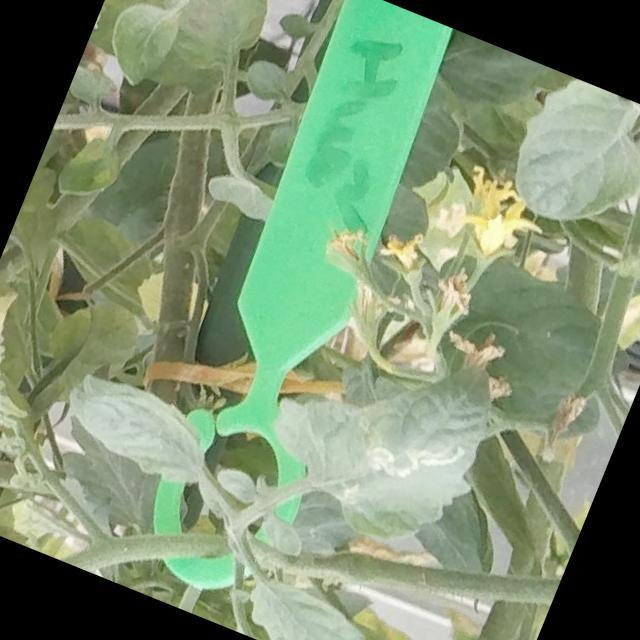Tomato target spot leaf: (244, 300, 516, 570)
